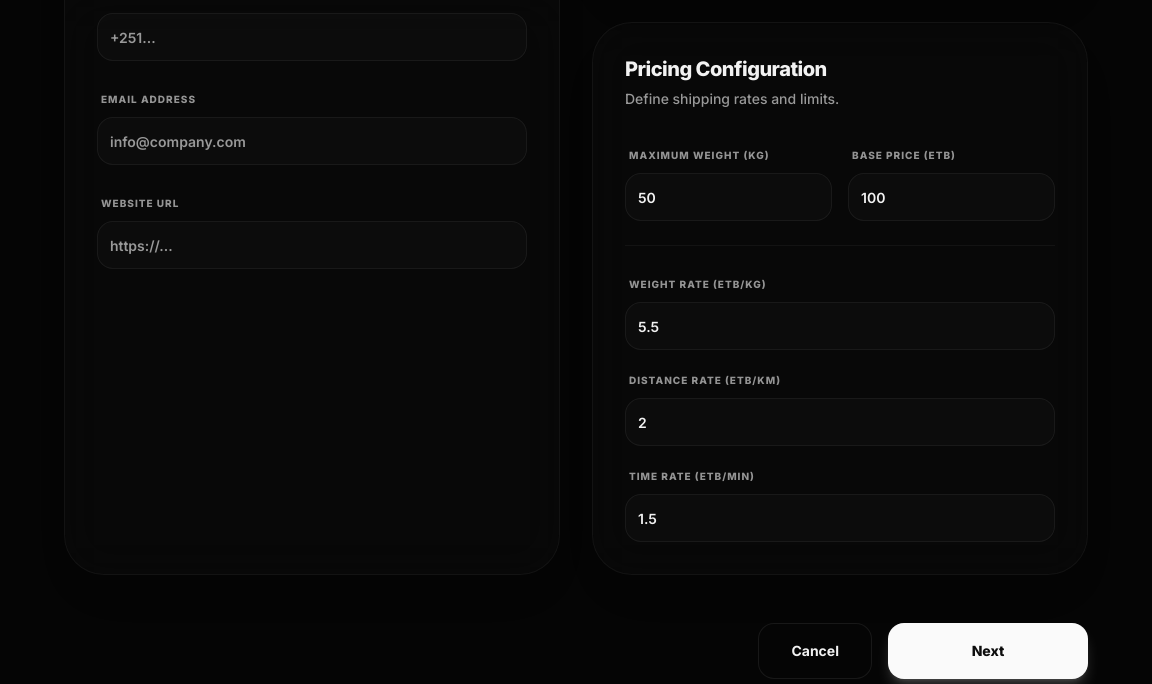
Test: CreateCourierPage › shows validation errors for empty required fields
(page scrolled)
What coordinates should you click on to do the following:
click the button "Next"
I would click on:
 (988, 651)
Its box is [888,623,1088,679].
(page scrolled)
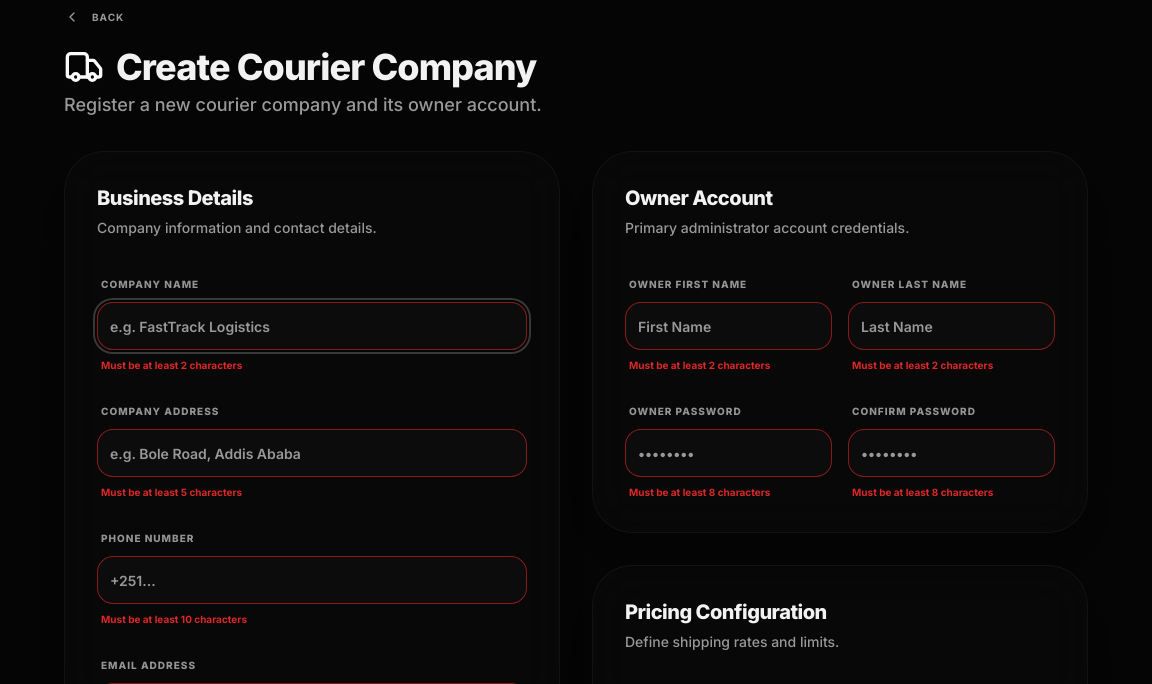
Result: the text "Must be at least 2 characters" below "Company Name" is shown at [101,359,242,371]
